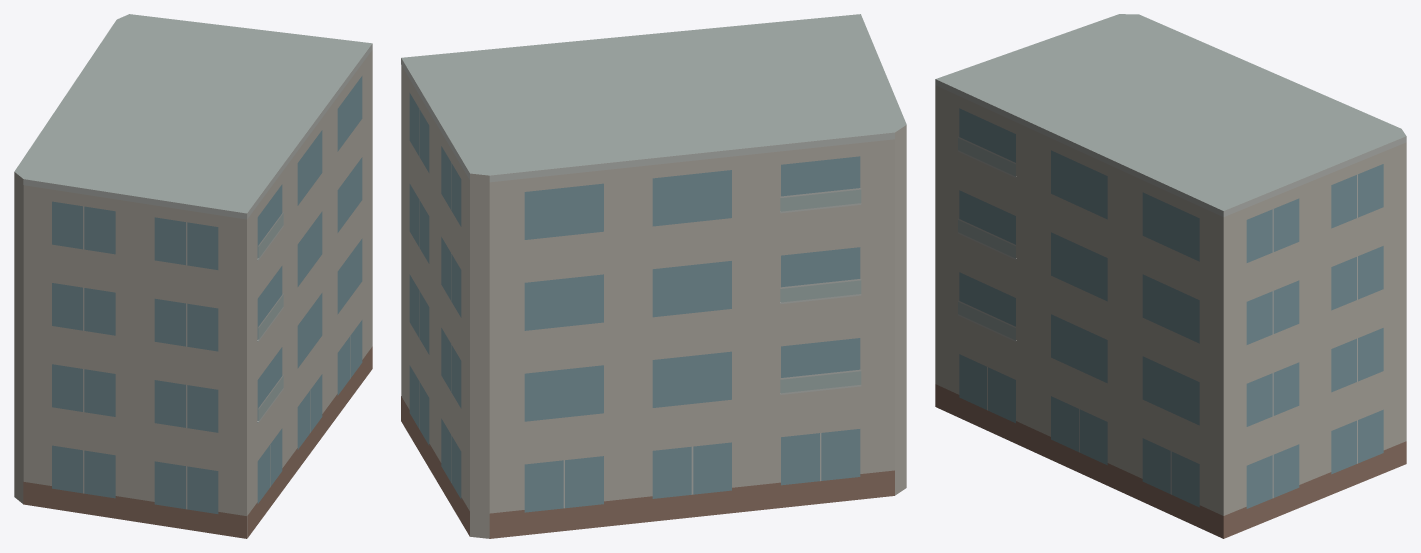
Rendered from survey-upis-32623873.glb.
3 renders of one model, left to right at view 1: azimuth 30°, elevation 25°; view 2: azimuth 150°, elevation 25°; view 3: azimuth 270°, elevation 25°, orthographic. The views are drawn at different scales.
Parts seen in each view (by area): view 1: survey-upis-32623873.tmp; view 2: survey-upis-32623873.tmp; view 3: survey-upis-32623873.tmp.
Part boxes in pixels (box(x1,y1,x2,y2)): survey-upis-32623873.tmp: box(14, 14, 372, 538); survey-upis-32623873.tmp: box(401, 14, 906, 538); survey-upis-32623873.tmp: box(935, 14, 1406, 538).
Bounding box in the file's own units: 16.92 × 13.11 × 17.09.
